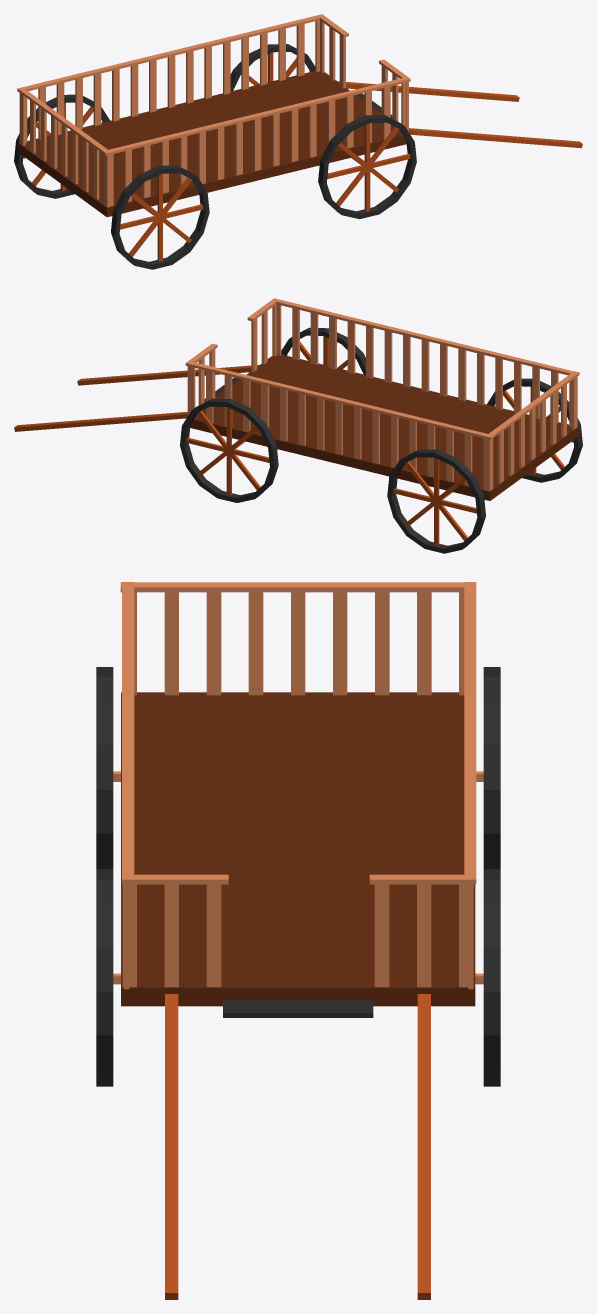
The model's file is Carro.fbx.
The picture shows the model from 3 angles, top to bottom: view 1: azimuth 30°, elevation 25°; view 2: azimuth 150°, elevation 25°; view 3: azimuth 270°, elevation 25°; orthographic projection. The views are drawn at different scales.
Parts seen in each view (by area): view 1: Cube.010, Cube, Cylinder.003, Cube.004, Cube.001; view 2: Cube.010, Cube, Cylinder.003, Cube.004, Cube.001; view 3: Cube, Cube.010, Cylinder.003, Cube.001, Cube.002.
Boxes of the visible parts, x1,y1,x2,y2 form: Cube.010: (17,14,410,207); Cube: (18,71,406,217); Cylinder.003: (14,44,416,269); Cube.004: (23,52,410,262); Cube.001: (338,81,582,148); Cube.010: (185,298,579,491); Cube: (190,354,578,500); Cylinder.003: (180,327,582,553); Cube.004: (186,336,573,545); Cube.001: (14,365,258,431); Cube: (121,692,475,1006); Cube.010: (120,582,476,989); Cylinder.003: (96,667,500,1086); Cube.001: (165,994,430,1299); Cube.002: (223,1000,373,1017).
Bounding box in the file's own units: 636 × 151 × 228.
